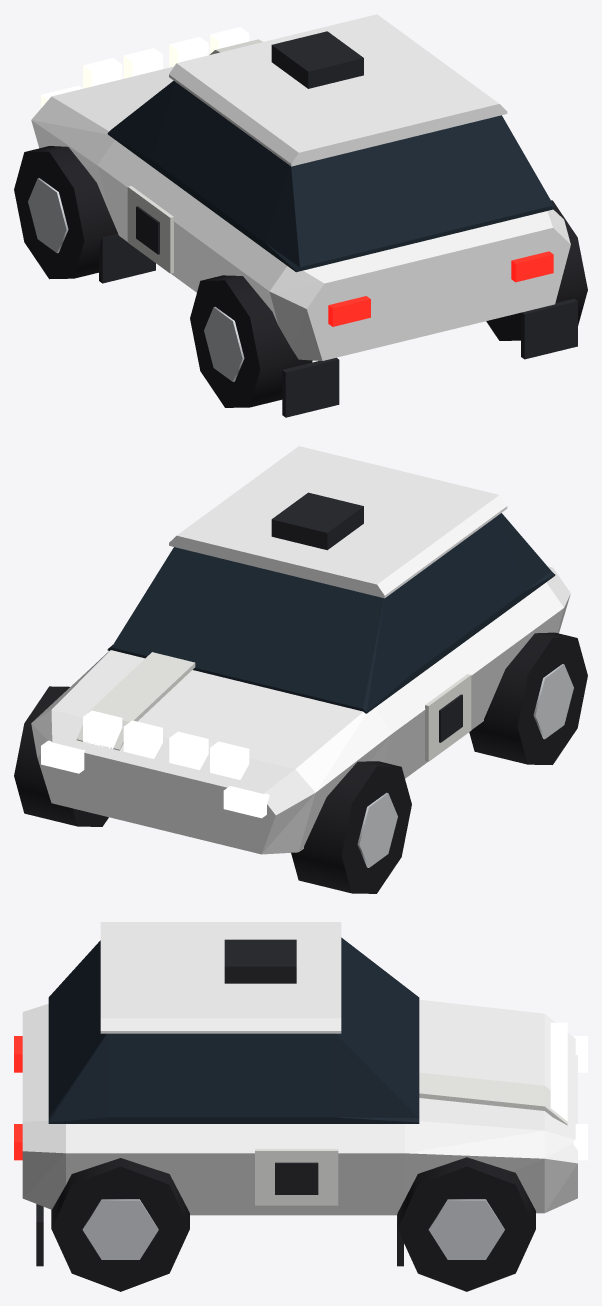
File: rally.glb
The picture shows the model from 3 angles, top to bottom: view 1: azimuth 30°, elevation 25°; view 2: azimuth 150°, elevation 25°; view 3: azimuth 270°, elevation 25°; orthographic projection.
Parts seen in each view (by area): view 1: object 1, object 2, object 3, wheel (×3), wheel-hub (×2), object 4, object 7, object 13, object 5, object 8, object 30, object 28 (+5 smaller); view 2: object 1, object 2, object 3, wheel (×3), wheel-hub (×2), object 17, object 4, object 5, object 9, object 15, object 10, object 16 (+3 smaller); view 3: object 1, object 2, object 3, wheel (×2), wheel-hub (×2), object 17, object 11, object 4, object 12, object 16, object 13.
Boxes of the visible parts, bbox=[...] form: object 1: bbox=[31, 66, 570, 360]; object 2: bbox=[107, 80, 555, 272]; object 3: bbox=[169, 14, 507, 166]; wheel (×3): bbox=[14, 146, 587, 407]; wheel-hub (×2): bbox=[28, 178, 244, 381]; object 4: bbox=[271, 31, 363, 88]; object 7: bbox=[282, 357, 339, 417]; object 13: bbox=[521, 298, 577, 359]; object 5: bbox=[127, 186, 173, 273]; object 8: bbox=[99, 234, 155, 283]; object 30: bbox=[511, 251, 553, 282]; object 28: bbox=[328, 296, 370, 326]; object 1: bbox=[31, 566, 570, 854]; object 2: bbox=[107, 513, 555, 713]; object 3: bbox=[169, 446, 507, 598]; wheel (×3): bbox=[14, 632, 587, 893]; wheel-hub (×2): bbox=[357, 664, 573, 867]; object 17: bbox=[76, 652, 195, 750]; object 4: bbox=[271, 492, 363, 550]; object 5: bbox=[425, 674, 471, 761]; object 9: bbox=[169, 731, 208, 770]; object 15: bbox=[123, 720, 162, 758]; object 10: bbox=[210, 741, 249, 779]; object 16: bbox=[83, 710, 122, 748]; object 1: bbox=[22, 999, 577, 1215]; object 2: bbox=[48, 937, 419, 1123]; object 3: bbox=[100, 922, 341, 1033]; wheel (×2): bbox=[51, 1157, 535, 1291]; wheel-hub (×2): bbox=[82, 1199, 504, 1259]; object 17: bbox=[419, 1072, 567, 1125]; object 11: bbox=[255, 1149, 338, 1205]; object 4: bbox=[224, 939, 296, 983]; object 12: bbox=[275, 1162, 318, 1194]; object 16: bbox=[550, 1083, 567, 1121]; object 13: bbox=[36, 1204, 43, 1266].
Size of the model in its own units: 2.61 by 1.99 by 3.98.
